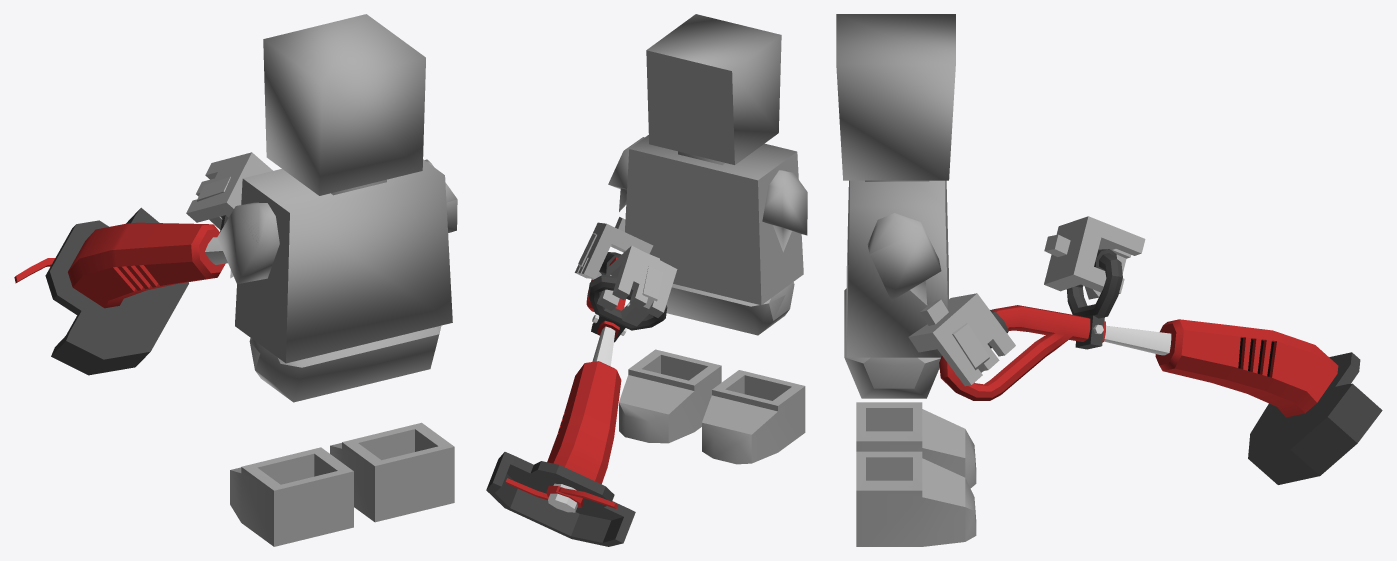
The model's file is weedWhacker_All.fbx.
3 views of the same model, side by side, from view 1: azimuth 30°, elevation 25°; view 2: azimuth 150°, elevation 25°; view 3: azimuth 270°, elevation 25° (orthographic). The views are drawn at different scales.
Visible parts, largest first — view 1: BLOCKHEAD_REFERENCE_DELETEME, black_plastic, body, Lhanddetail100; view 2: BLOCKHEAD_REFERENCE_DELETEME, black_plastic, body, Lhanddetail100, Rhanddetail100, LHookdetail100, blade, metal_bar, head; view 3: BLOCKHEAD_REFERENCE_DELETEME, body, black_plastic, Rhanddetail100, Lhanddetail100, metal_bar, RHookdetail100, LHookdetail100.
Part boxes in pixels (x1,y1,x2,y2): BLOCKHEAD_REFERENCE_DELETEME: (217,14,457,546); black_plastic: (45,207,228,375); body: (68,222,225,308); Lhanddetail100: (186,152,272,222); BLOCKHEAD_REFERENCE_DELETEME: (608,14,807,464); black_plastic: (486,252,667,546); body: (547,257,625,484); Lhanddetail100: (597,245,677,317); Rhanddetail100: (574,222,653,279); LHookdetail100: (621,253,663,326); blade: (505,478,618,508); metal_bar: (592,314,626,366); head: (548,483,577,512); BLOCKHEAD_REFERENCE_DELETEME: (836,14,976,546); body: (939,305,1338,417); black_plastic: (987,249,1382,484); Rhanddetail100: (908,293,1015,386); Lhanddetail100: (1044,216,1145,293); metal_bar: (1093,324,1171,355); RHookdetail100: (920,299,989,372); LHookdetail100: (1044,234,1126,299).
Size of the model in its own units: 13.94 by 25.64 by 27.4.
